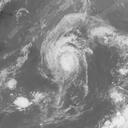cyclone: (39, 21, 89, 87)
